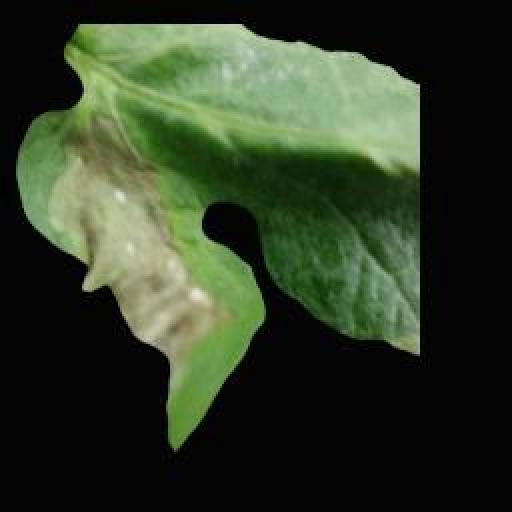disease_tomato: (18, 25, 420, 459)
